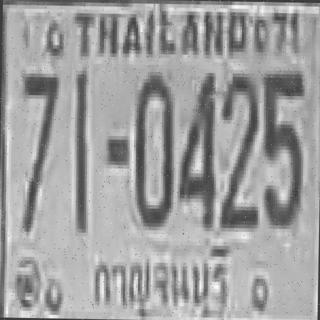N00: (132, 72, 173, 223)
N01: (72, 70, 88, 232)
N02: (220, 71, 258, 226)
N04: (177, 69, 216, 224)
N05: (260, 68, 302, 223)
N07: (20, 70, 57, 232)
P17: (88, 237, 234, 320)
